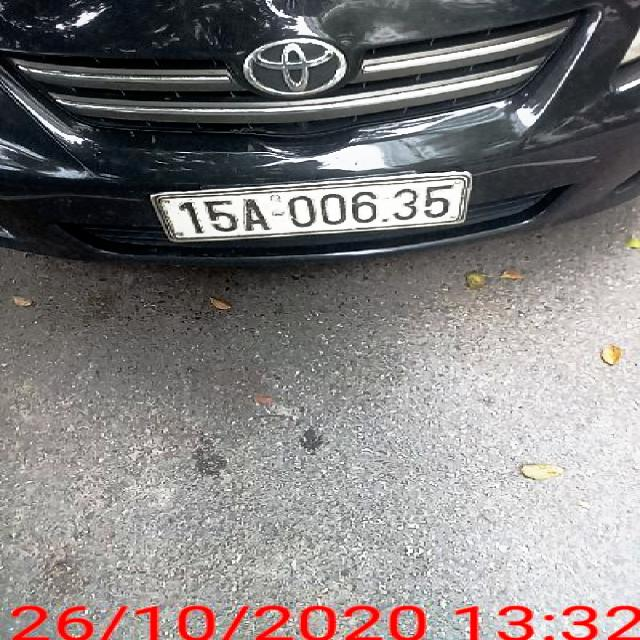license_plate: (161, 176, 465, 243)
